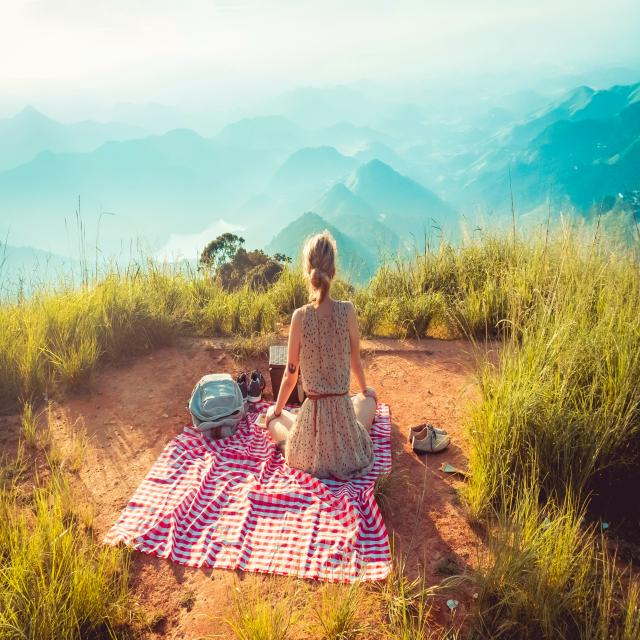adult: (264, 230, 377, 483)
